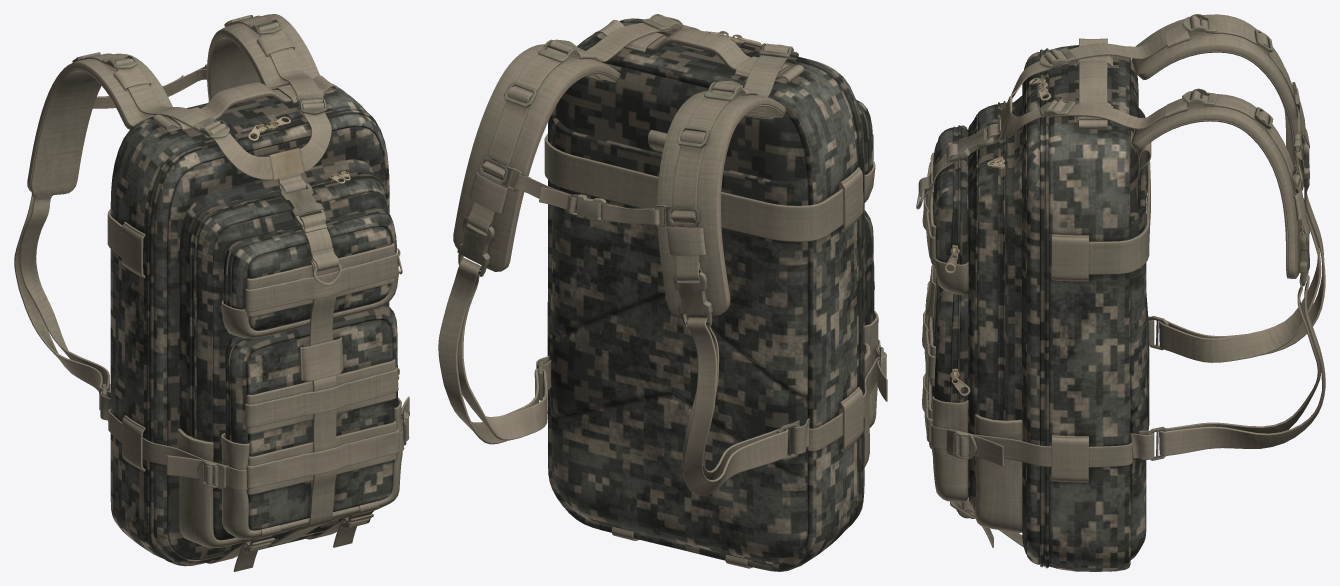
The model's file is MilitaryBackpack.fbx.
The picture shows the model from 3 angles, left to right: view 1: azimuth 30°, elevation 25°; view 2: azimuth 150°, elevation 25°; view 3: azimuth 270°, elevation 25°; orthographic projection. The views are drawn at different scales.
Parts seen in each view (by area): view 1: main_001_mesh_007, strap_001_mesh_014, buckle_001_mesh_014, plate_001_mesh_003; view 2: main_001_mesh_007, strap_001_mesh_014, buckle_001_mesh_014; view 3: main_001_mesh_007, strap_001_mesh_014, buckle_001_mesh_014, zipper_001_mesh_005.
Part boxes in pixels (box(x1,y1,x2,y2)): main_001_mesh_007: box(110, 83, 397, 566); strap_001_mesh_014: box(14, 14, 409, 571); buckle_001_mesh_014: box(31, 15, 409, 552); plate_001_mesh_003: box(269, 148, 303, 180); main_001_mesh_007: box(547, 18, 874, 571); strap_001_mesh_014: box(438, 15, 887, 568); buckle_001_mesh_014: box(457, 14, 886, 460); main_001_mesh_007: box(932, 45, 1149, 571); strap_001_mesh_014: box(918, 14, 1325, 547); buckle_001_mesh_014: box(916, 14, 1309, 518); zipper_001_mesh_005: box(944, 78, 1051, 395).
Bounding box in the file's own units: 4003 × 6979 × 5437.
